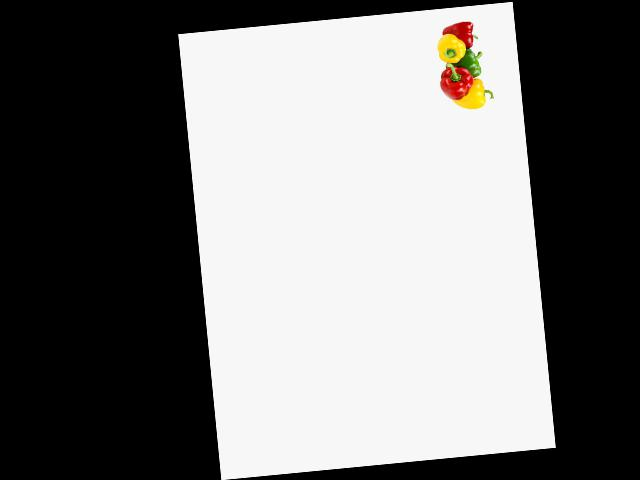bell_pepper: (445, 18, 480, 50)
